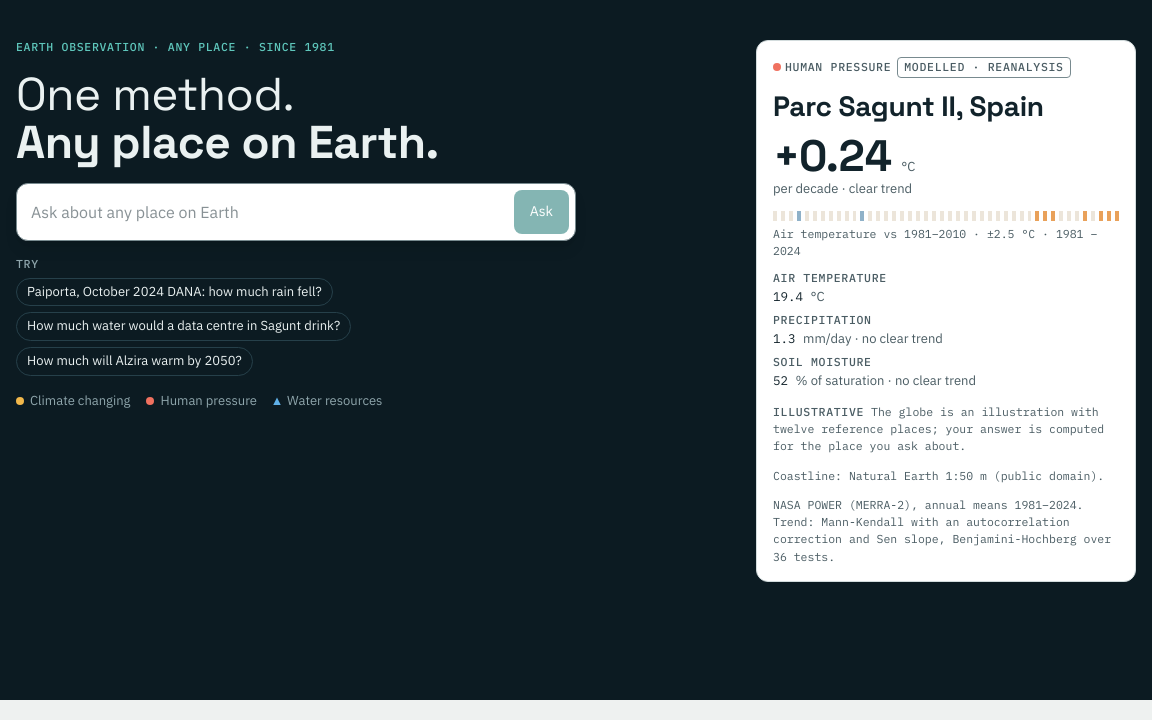
Test: a question about the place stays on the cover even when the server also wrote an article
The width and height of the screenshot is (1152, 720).
In the search field named "Your question": (264, 212) [23,190,506,234], type "How does the Gulf war with Iran affect Dubai?"
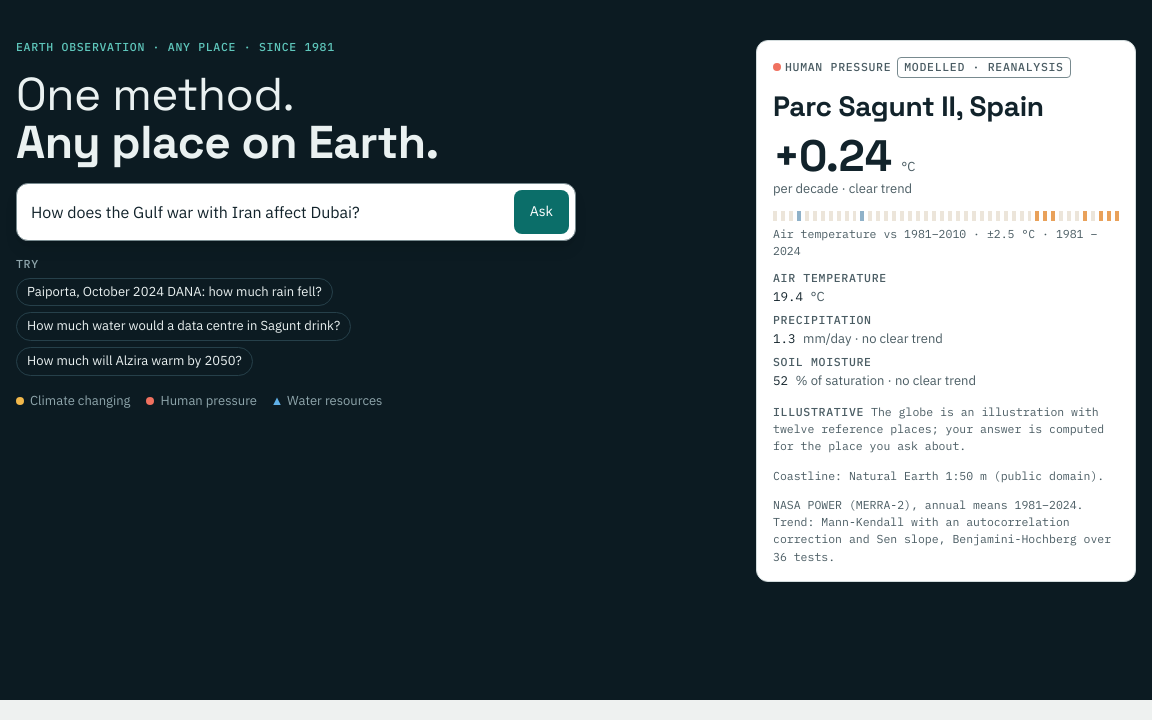
Click the button "Ask": (541, 212) [514,190,569,234]
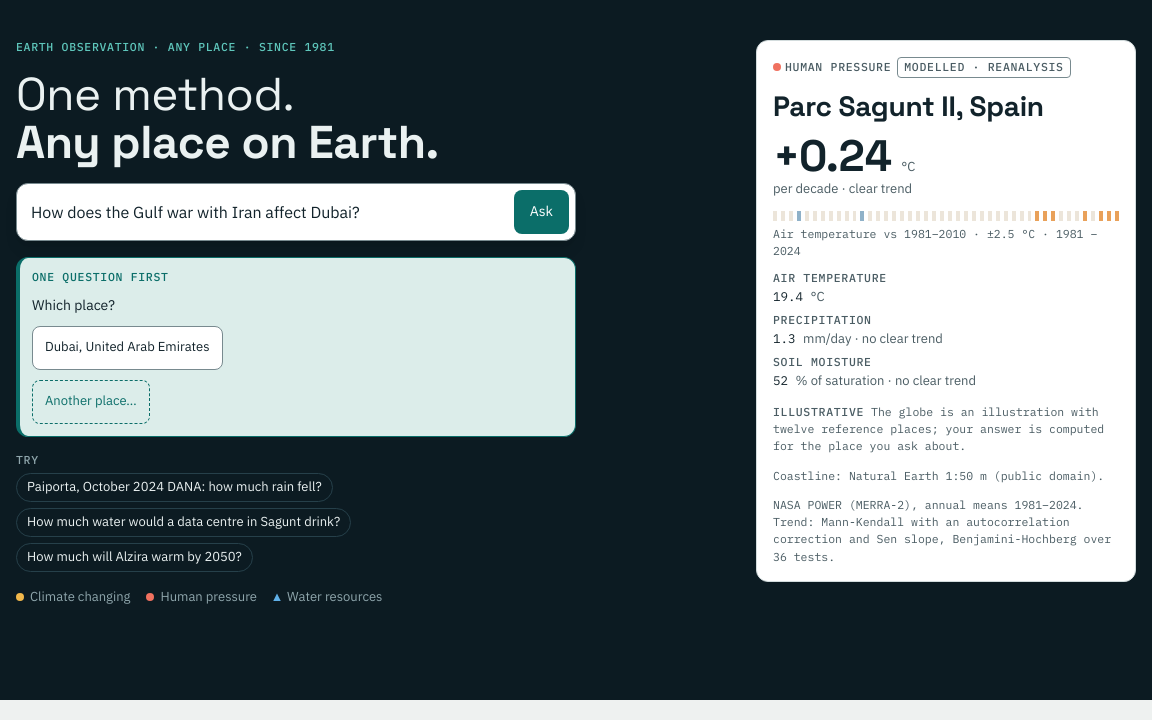
Check: the button "Dubai, United Arab Emirates" is shown, box [32,326,223,370]
Check: the button "Another place…" is shown, box [32,380,150,424]
